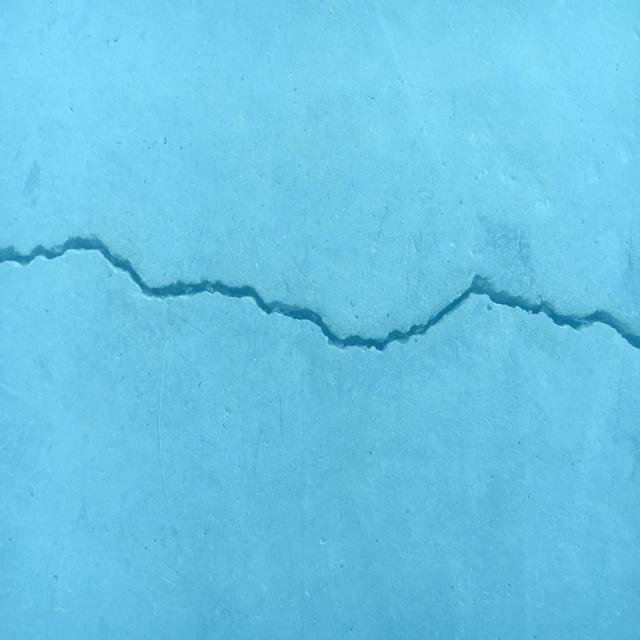crack: (0, 235, 640, 352)
